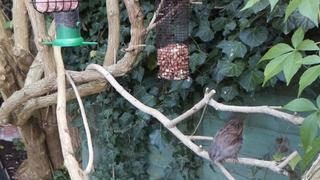dunnock: (208, 112, 250, 166)
